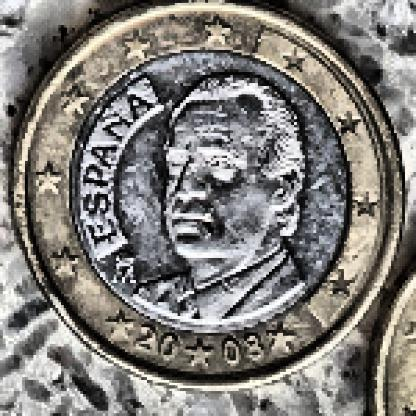coin: (10, 0, 409, 386)
